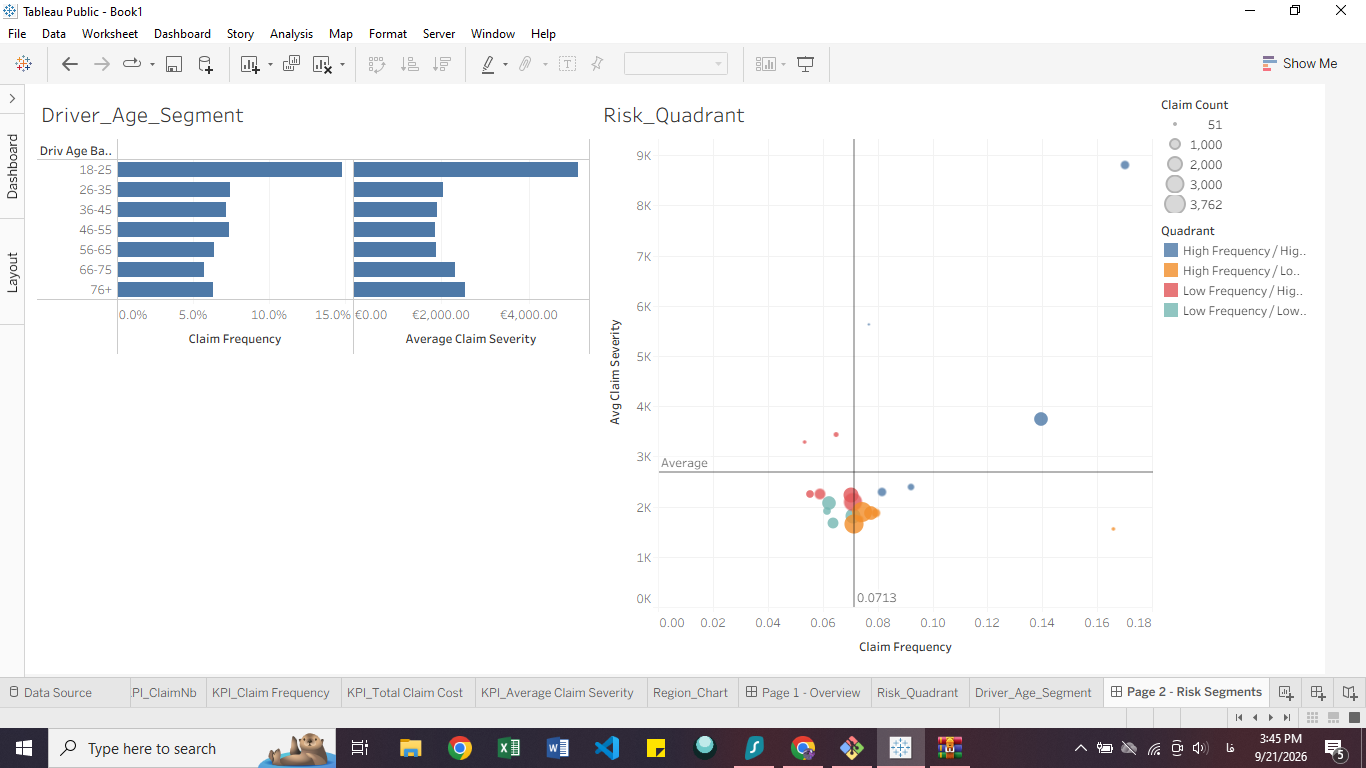

The dashboard page shown, as its layout file describes it:
{"tool":"tableau","page":{"name":"Page 2 - Risk Segments","canvas":[1300,590],"ordinal":1},"visuals":[{"type":"worksheet","title":"Driver_Age_Segment","mark":"Automatic","rows":["DrivAgeBand"],"cols":["Calculation_0435729011646464","Calculation_0435729012256770"],"box":[8,8,562,574]},{"type":"worksheet","title":"Risk_Quadrant","mark":"Circle","rows":["AvgClaimSeverity"],"cols":["ClaimFrequency"],"box":[570,8,562,574]},{"type":"legend","title":"Risk_Quadrant","param":"[federated.1nfoc2604rnha11d4jiu60mcs37o].[sum:ClaimCount:qk]","box":[1132,8,160,126]},{"type":"legend","title":"Risk_Quadrant","param":"[federated.1nfoc2604rnha11d4jiu60mcs37o].[none:Quadrant:nk]","box":[1132,134,160,106]}]}

Visuals, with their boxes on the page's 1300x590 design canvas (x1, y1, x2, y2). These are canvas units, not pixel positions in the 1366x768 screenshot, which may show the page scaled, cropped or inside an application window:
"Driver_Age_Segment" worksheet: 8 8 570 582
"Risk_Quadrant" worksheet (Circle marks): 570 8 1132 582
"Risk_Quadrant" legend: 1132 8 1292 134
"Risk_Quadrant" legend: 1132 134 1292 240
